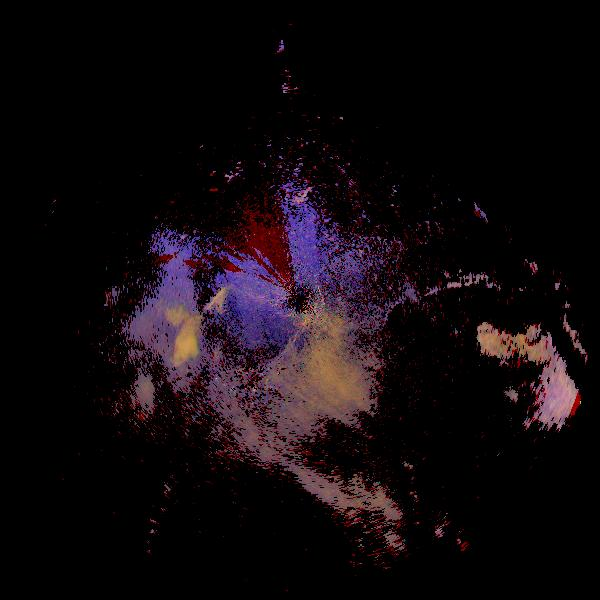roost: (121, 290, 217, 386)
